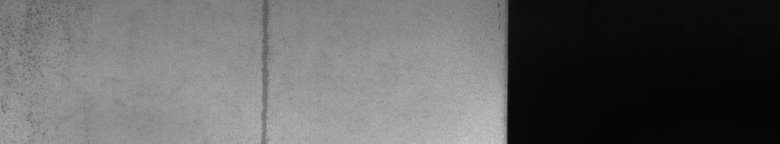hd: (256, 4, 272, 136)
